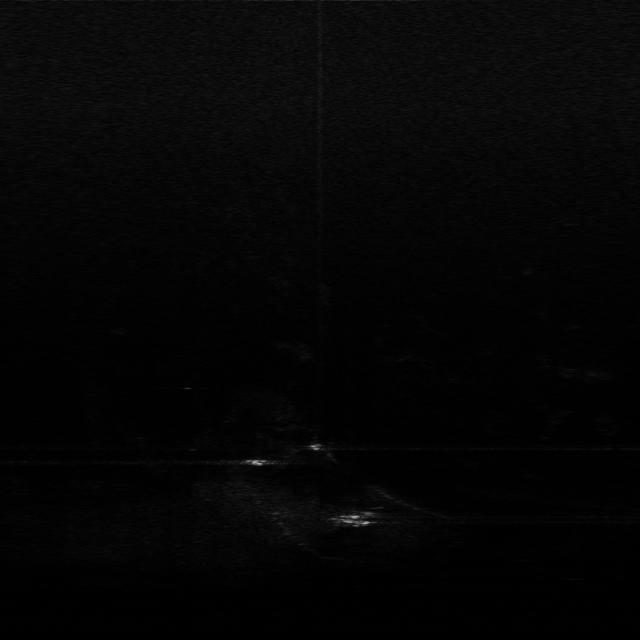rov: (327, 508, 381, 530)
